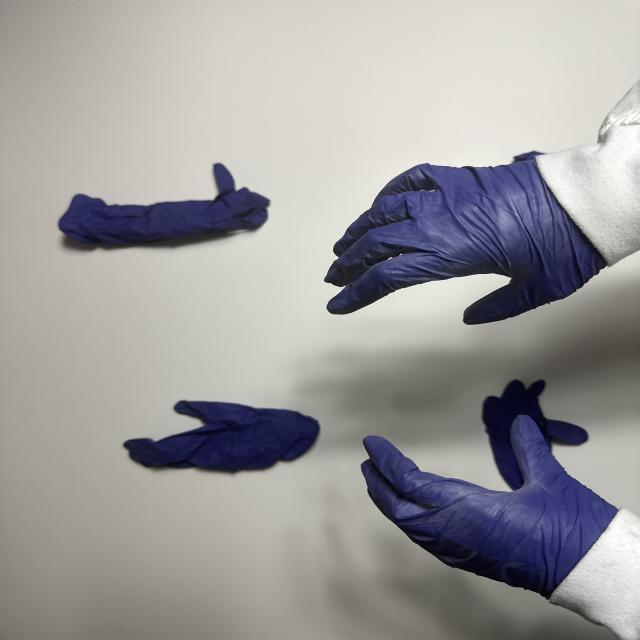gloves_contaminated: (362, 416, 616, 597), (325, 162, 603, 324)
